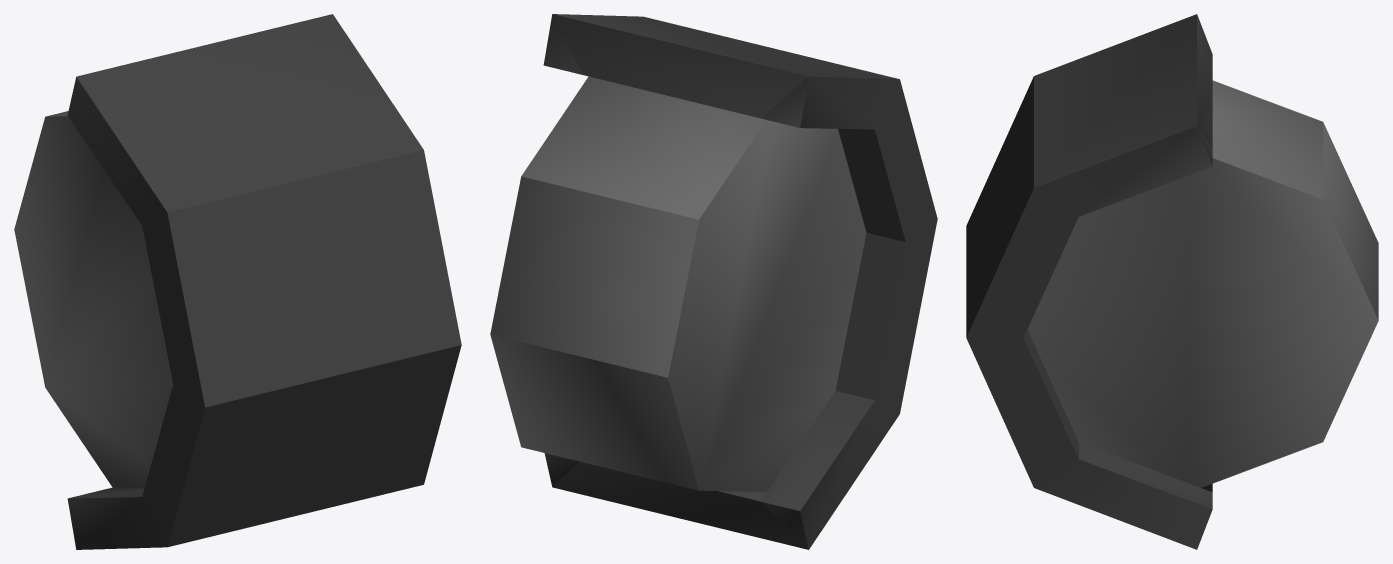
File: Chair_Wheel.obj
The picture shows the model from 3 angles, left to right: view 1: azimuth 30°, elevation 25°; view 2: azimuth 150°, elevation 25°; view 3: azimuth 270°, elevation 25°; orthographic projection. The views are drawn at different scales.
Parts seen in each view (by area): view 1: Chair_Wheel; view 2: Chair_Wheel; view 3: Chair_Wheel.
Boxes of the visible parts, <box> form: Chair_Wheel: <box>14,14,461,549</box>; Chair_Wheel: <box>490,14,937,549</box>; Chair_Wheel: <box>966,14,1378,549</box>.
Bounding box in the file's own units: 0.0611 × 0.1078 × 0.095.
